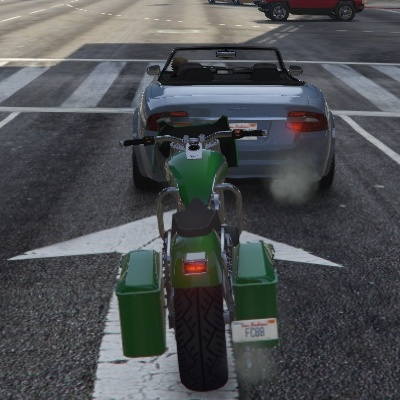on: (182, 252, 208, 276)
